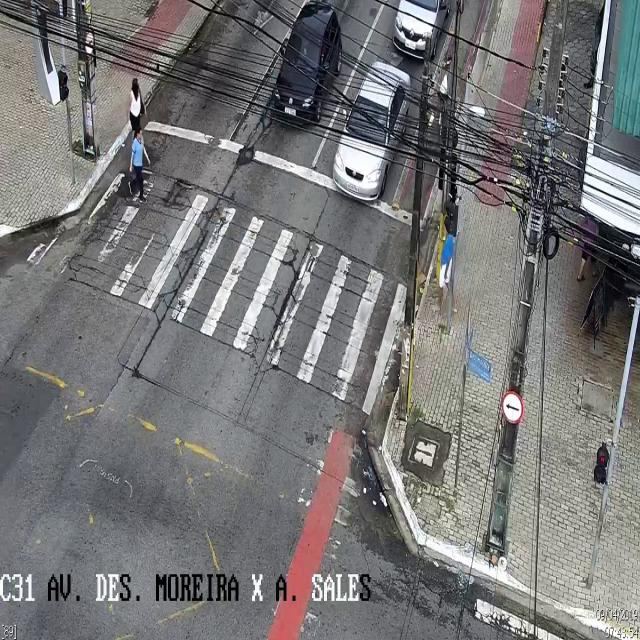Car: (332, 60, 410, 200), (277, 0, 343, 124), (390, 0, 460, 60)
